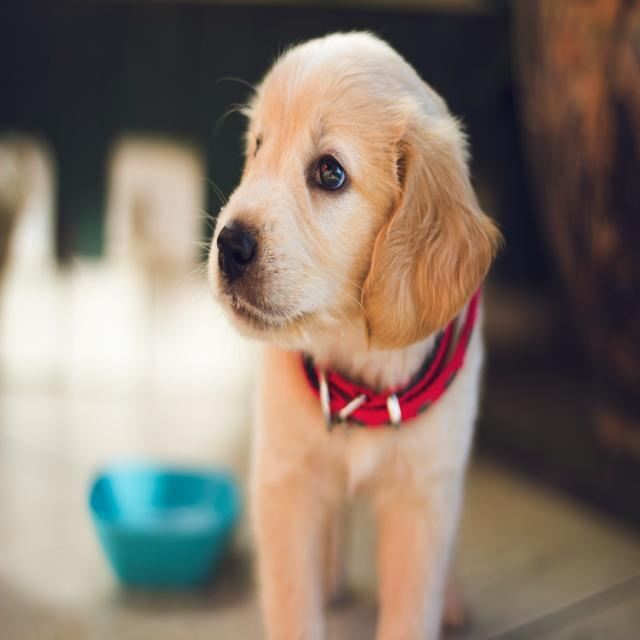dog: (200, 8, 510, 382)
